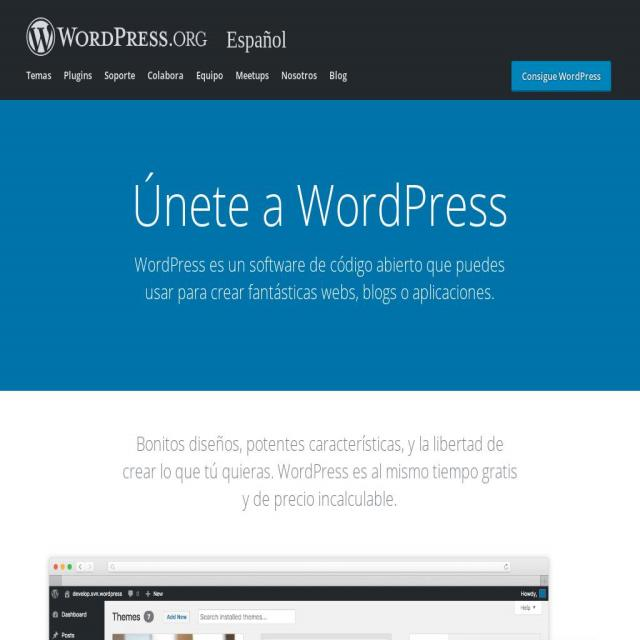button: (24, 8, 210, 56), (511, 61, 611, 91), (144, 61, 188, 99), (278, 61, 320, 99), (232, 61, 272, 99), (100, 61, 138, 99), (60, 61, 96, 99), (192, 61, 227, 99), (23, 61, 55, 99), (49, 602, 102, 623), (50, 585, 124, 600), (50, 623, 104, 640), (326, 61, 350, 99), (142, 585, 167, 601), (520, 588, 548, 600), (516, 602, 540, 614), (164, 611, 190, 621), (125, 585, 141, 600), (540, 576, 550, 586), (85, 562, 94, 572), (77, 562, 84, 573)
field: (109, 562, 510, 572), (199, 610, 296, 623)
